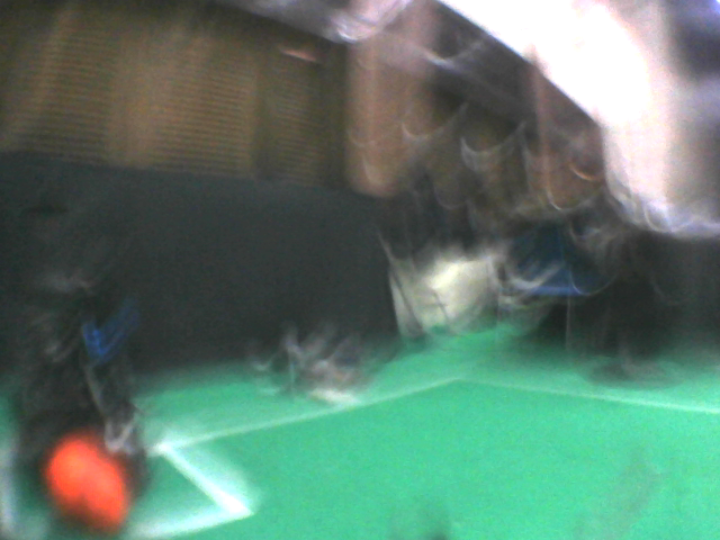bola: (31, 434, 138, 533)
